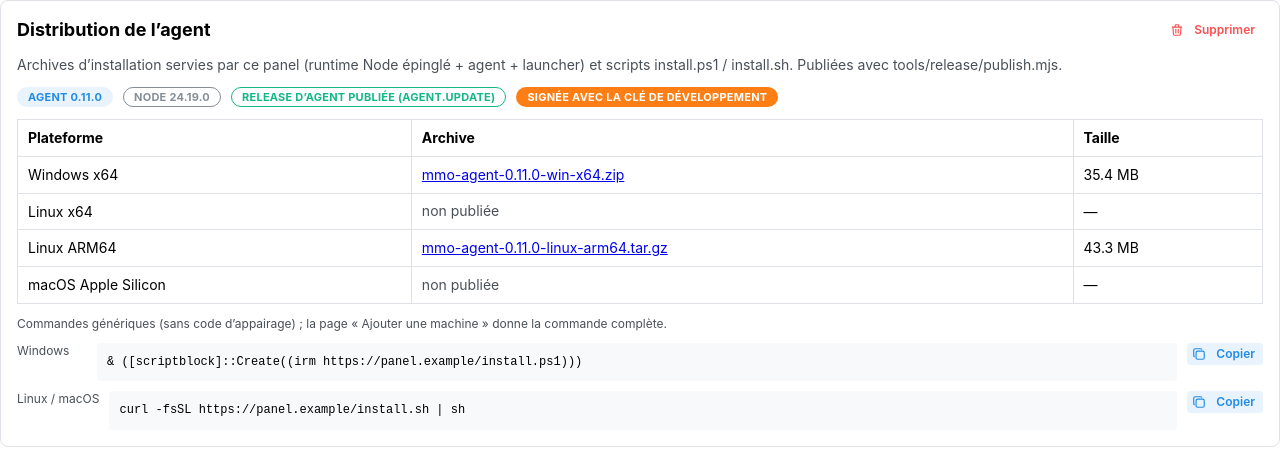
Test: phase 11 — distribution › plateformes, badges, one-liners puis suppression
Expected: the element with test id "distribution-version" shows "0.11.0", [28,90,102,104]
Expected: the element with test id "distribution-release" shows "publiée", [242,90,495,104]
Click the button with test id "distribution-clear": x=1214, y=30 [1165,19,1263,41]
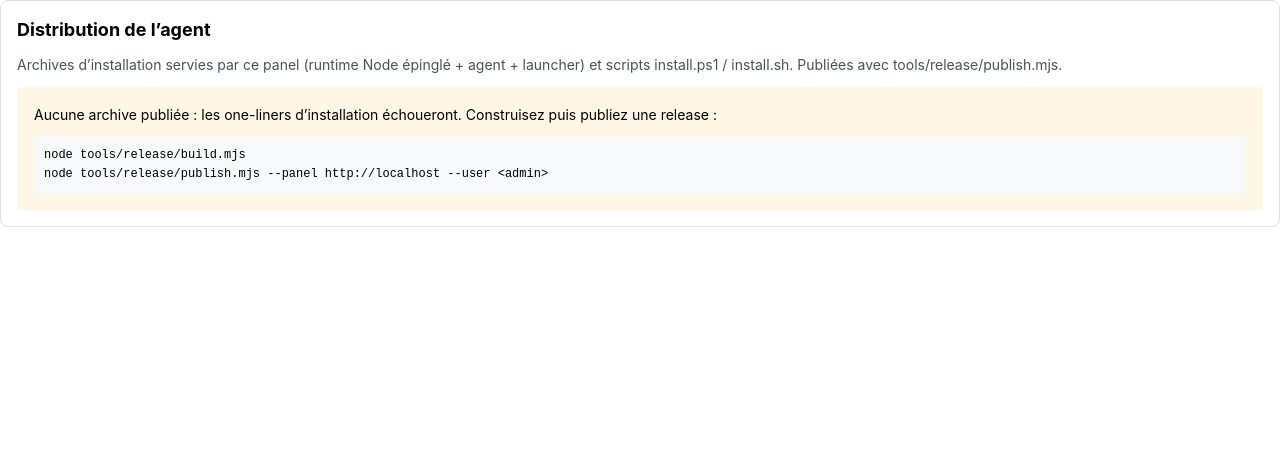
Result: the message with test id "distribution-empty" is shown at [17,87,1263,210]
Result: the element with test id "distribution-version" is gone
